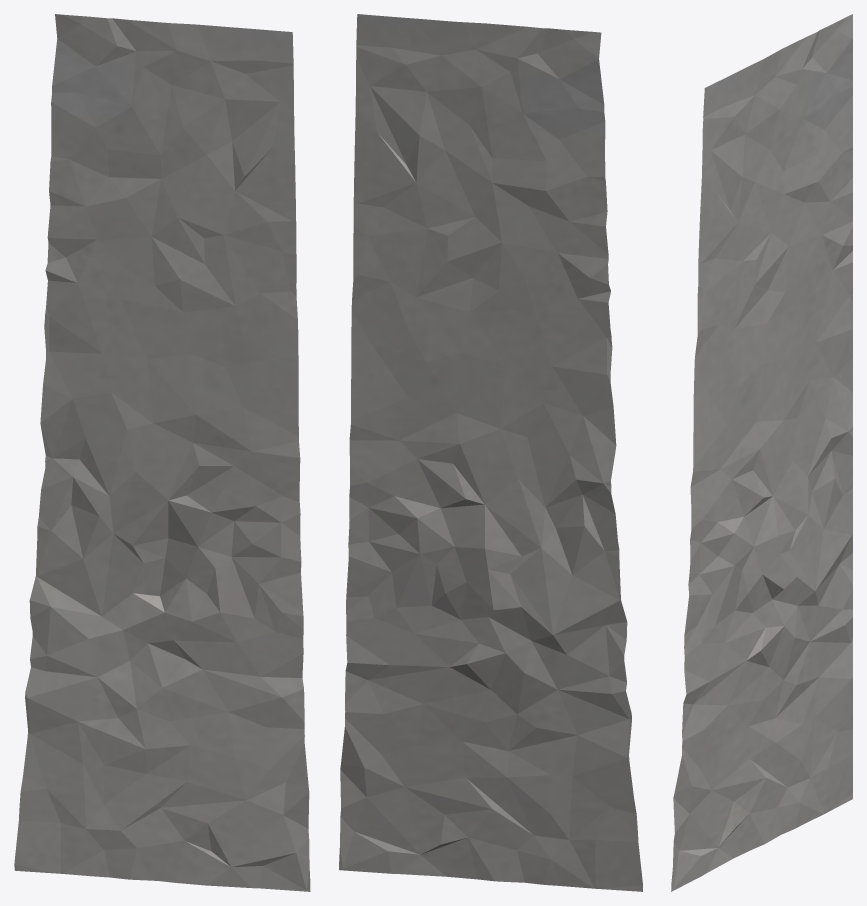
3 views of the same model, side by side, from view 1: azimuth 30°, elevation 25°; view 2: azimuth 210°, elevation 25°; view 3: azimuth 270°, elevation 25° (orthographic). The views are drawn at different scales.
Bounding box in the file's own units: 0.2072 × 0.8374 × 0.1717.
1 material, 1 textured.
